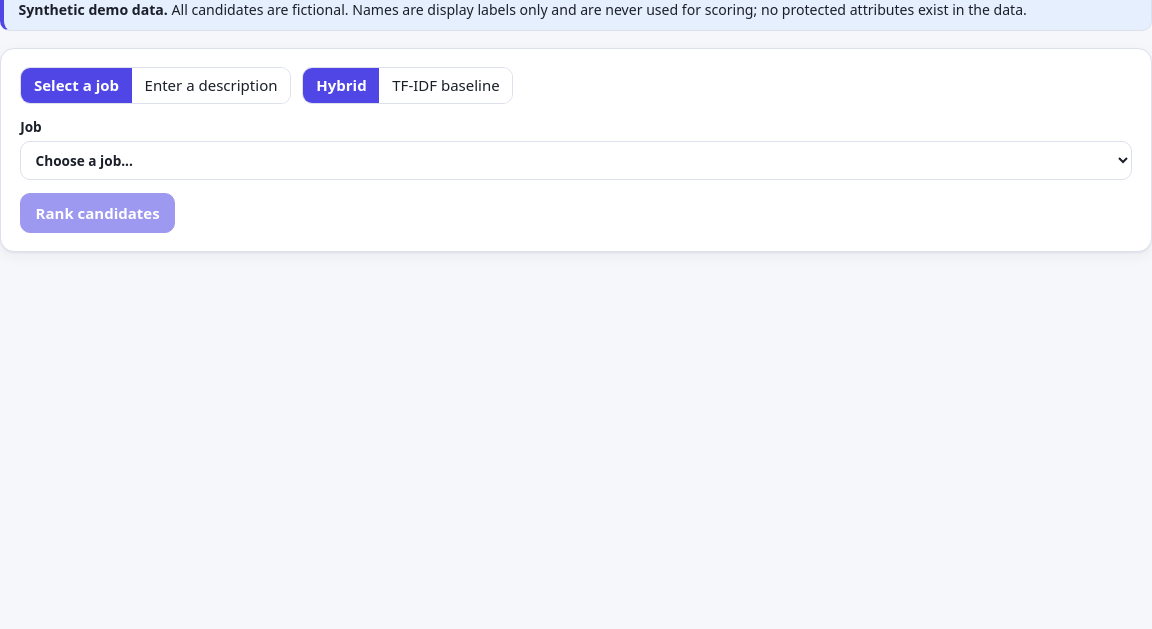
Recruiter page › supports a custom description and the TF-IDF baseline toggle
Click the button "Enter a description".
click(211, 85)  # box [132, 68, 290, 103]
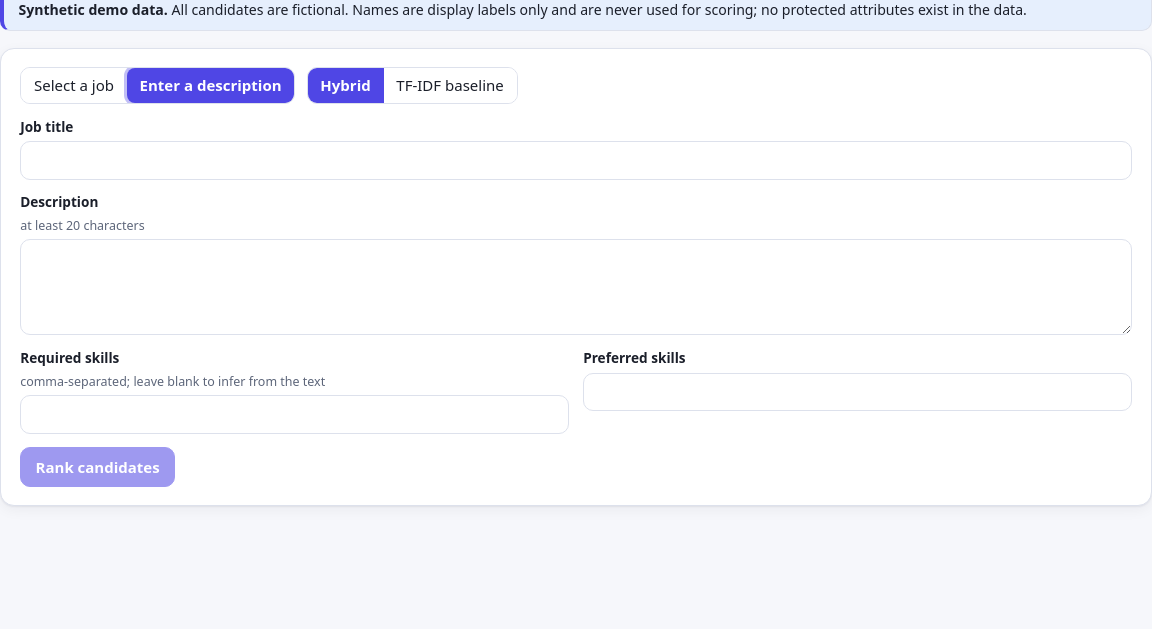
Click the button "TF-IDF baseline".
click(450, 85)  # box [384, 68, 516, 103]
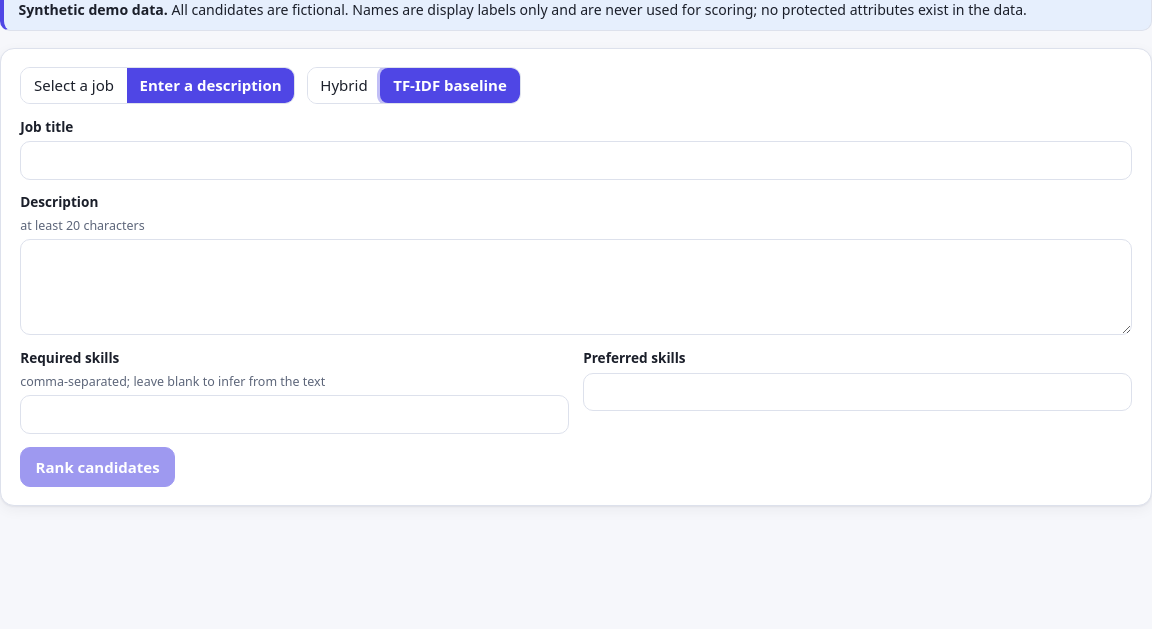
Type "ML Engineer" into the field labelled "Job title".
click(576, 160); type("ML Engineer")  # box [20, 141, 1132, 180]
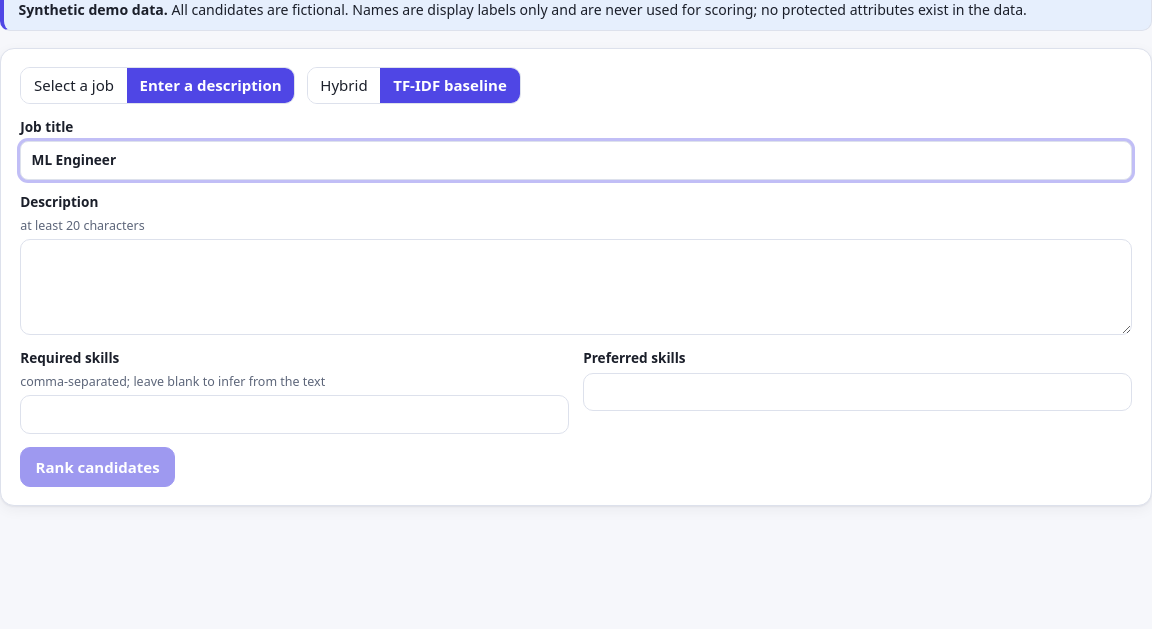
Type "Short" into the text box labelled "Description at least 20 characters".
click(576, 288); type("Short")  # box [20, 240, 1132, 336]
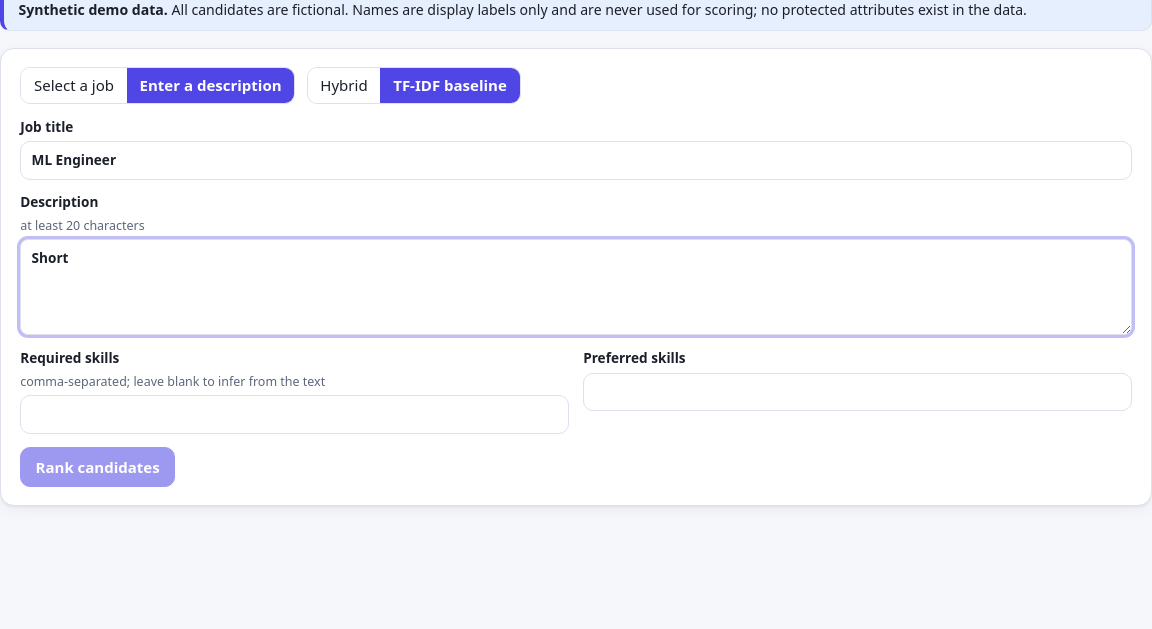
Expected: the button "Rank candidates" is disabled, [20, 446, 175, 487]
Type " but now a long enough description." into the text box labelled "Description at least 20 characters".
click(576, 288); type(" but now a long enough description.")  # box [20, 240, 1132, 336]
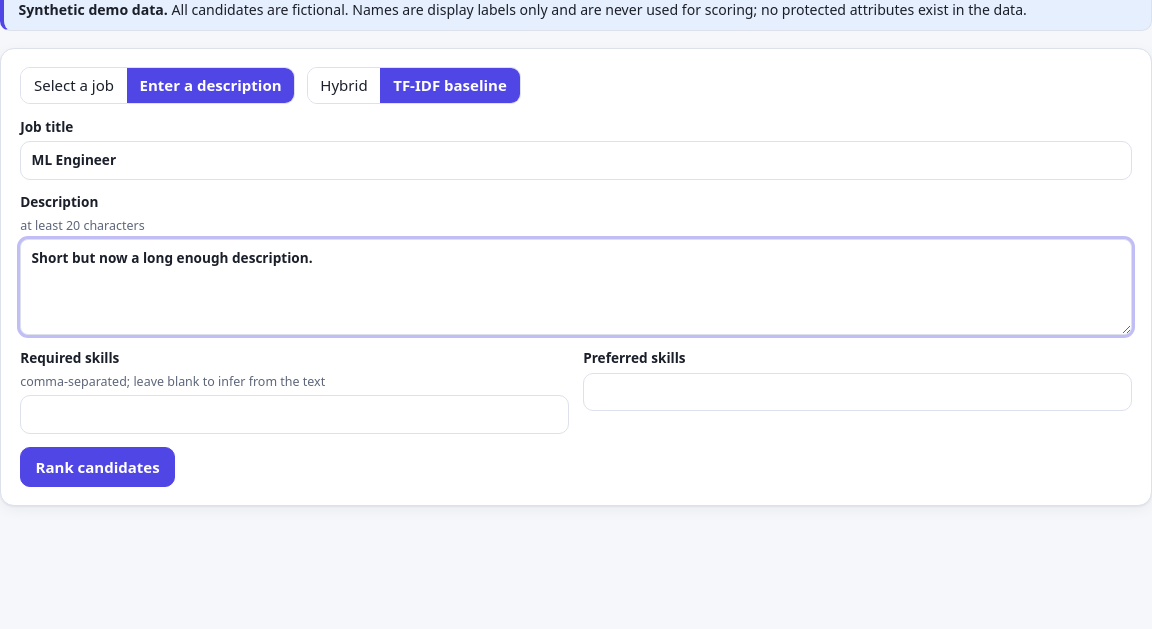
Click the button "Rank candidates".
click(98, 467)  # box [20, 446, 175, 487]
(page scrolled)
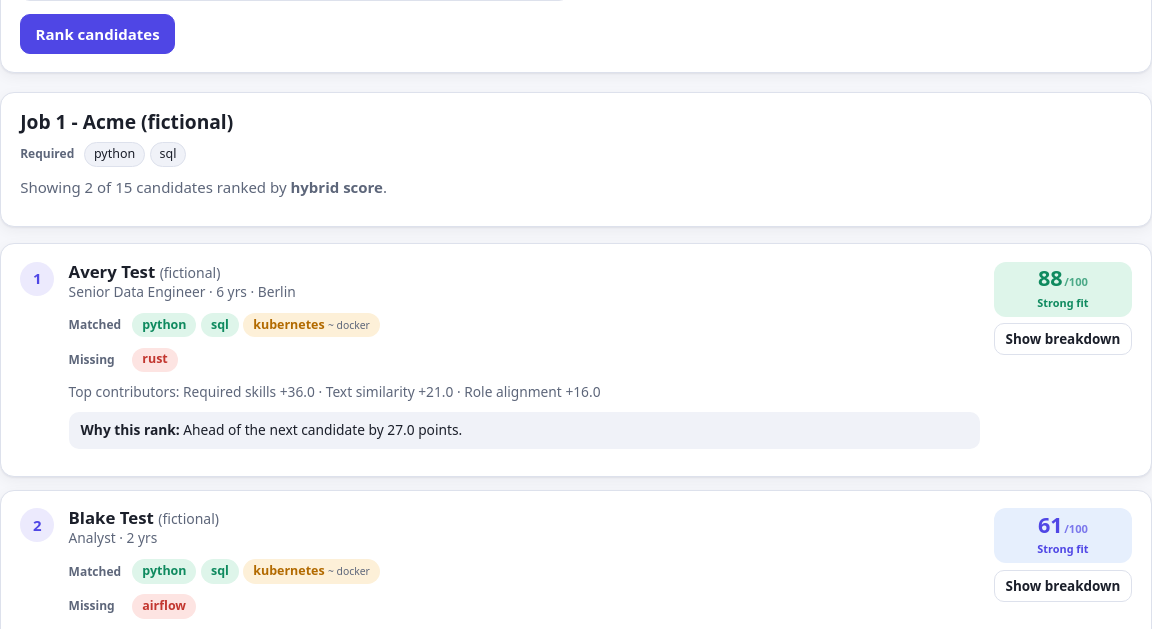
Result: the heading "Avery Test (fictional)" is shown at [69, 260, 220, 283]
